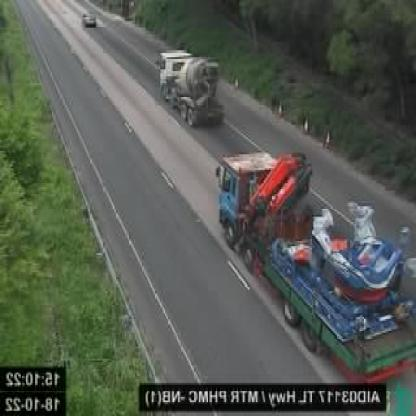Car: (80, 12, 96, 29)
Truck: (215, 150, 416, 381), (160, 48, 227, 127)
